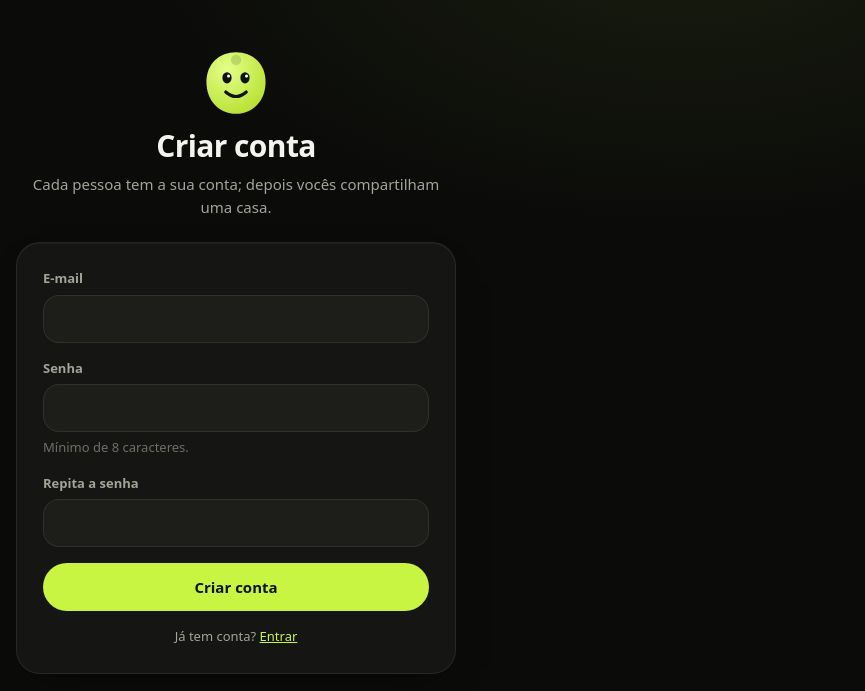
Scenario: cadastro e recuperação de senha › pede confirmação de e-mail quando o projeto exige
This screenshot has width=865, height=691.
Type "ana@exemplo.com" into the field labelled "E-mail" at (236, 318), box [43,294,429,342]
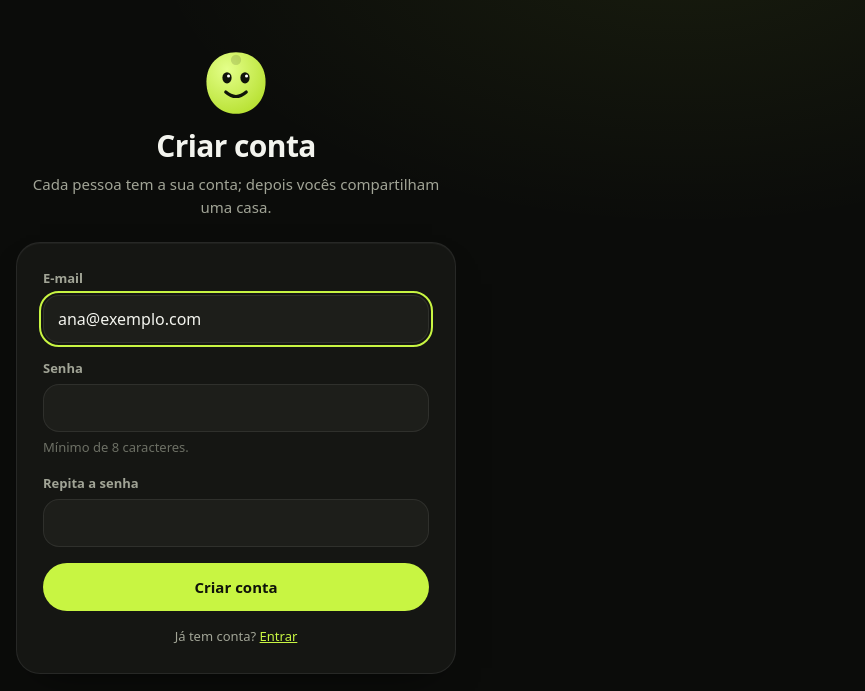
Type "senhaboa123" into the password field labelled "Senha" at (236, 408), box [43,384,429,432]
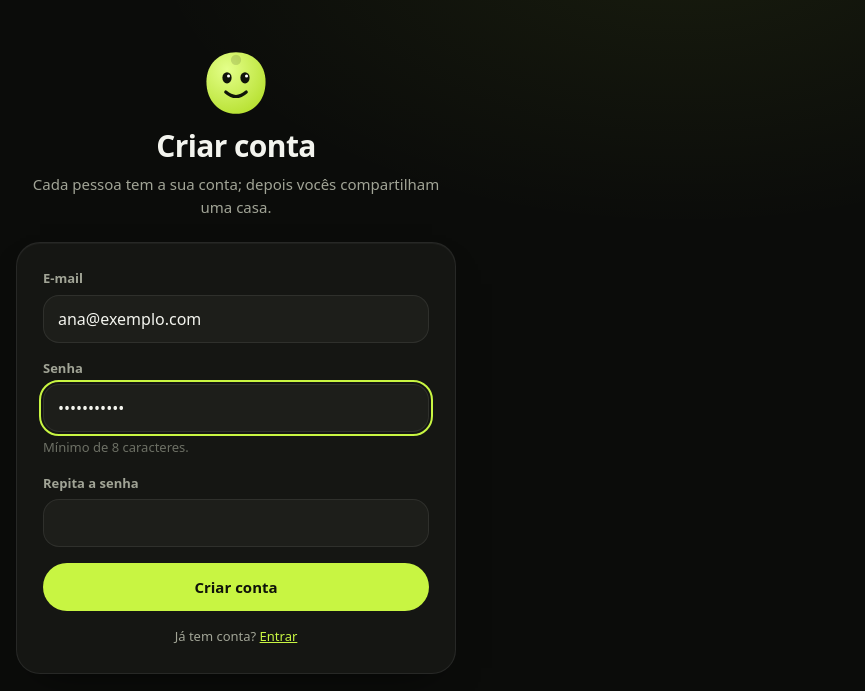
Type "senhaboa123" into the password field labelled "Repita a senha" at (236, 523), box [43,499,429,547]
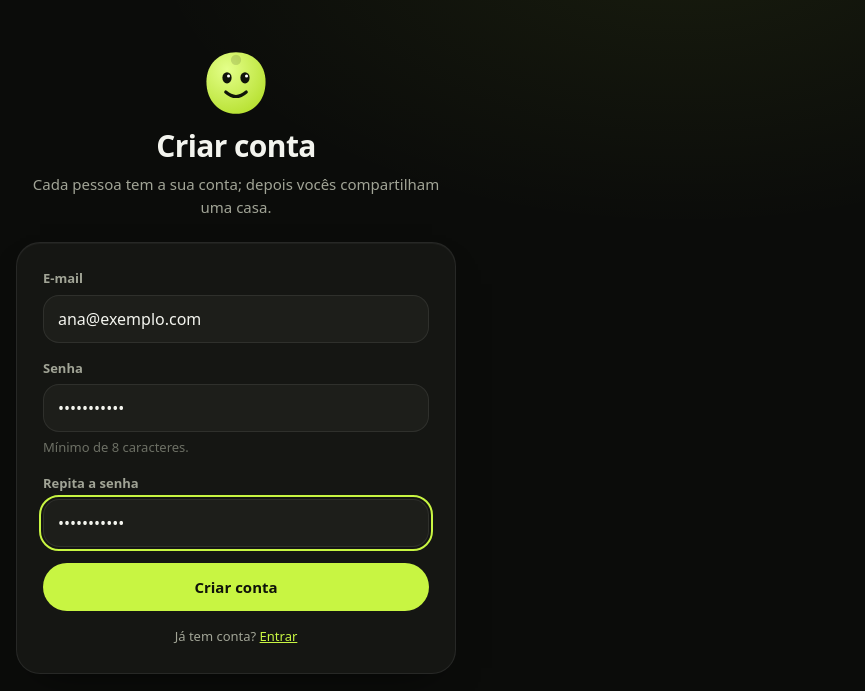
Click the button "Criar conta" at (236, 587), box [43,563,429,611]
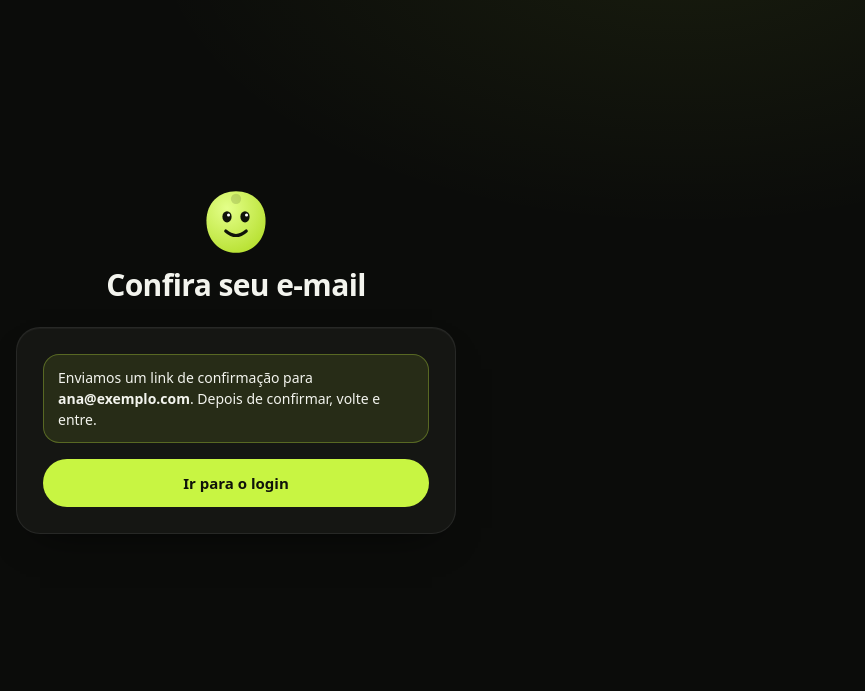
Check: the text "Enviamos um link de confirmação" is shown, box [58,368,313,387]
